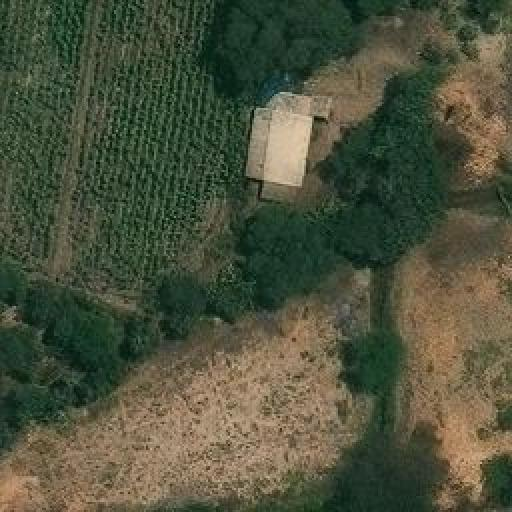manzanas: (239, 87, 332, 208)
